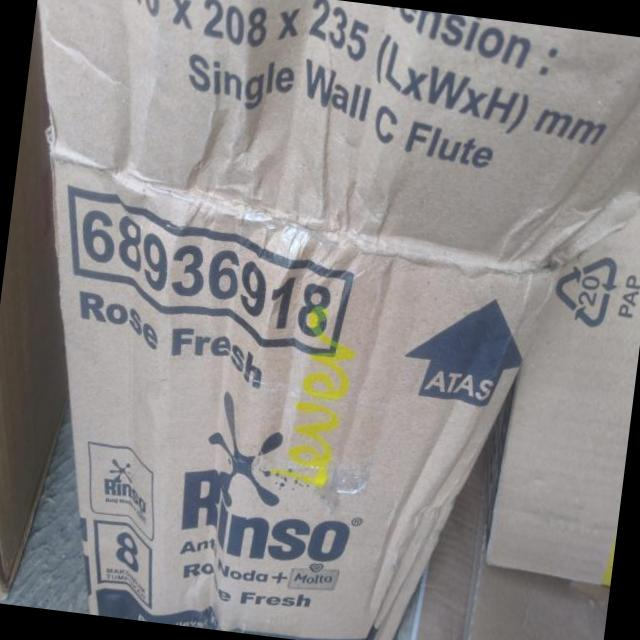crushed: (59, 155, 477, 640)
